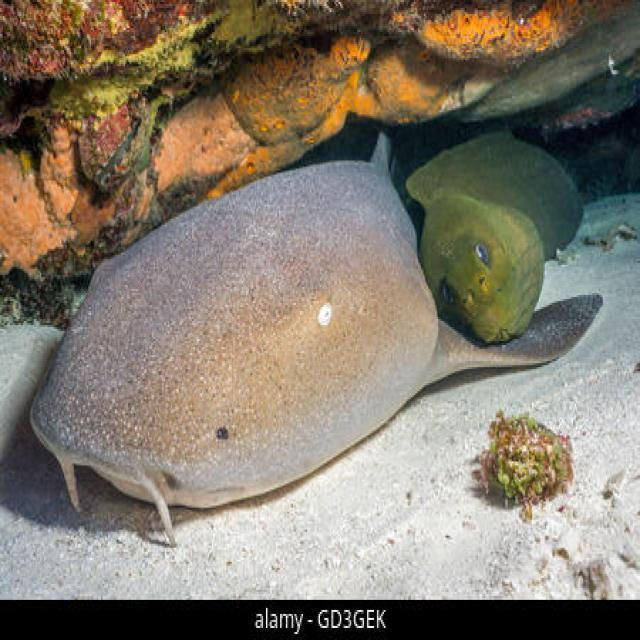Shark: (21, 132, 608, 508)
